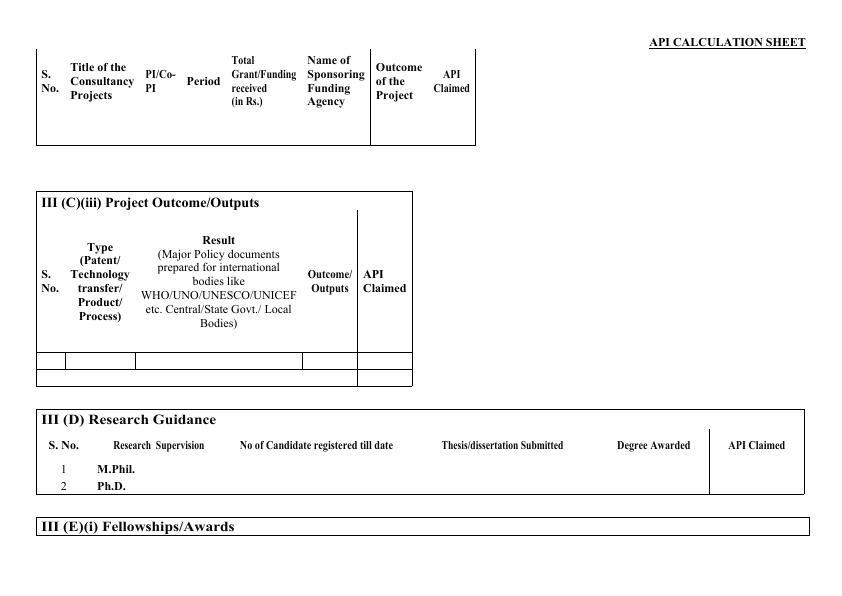table: (26, 183, 416, 391), (33, 404, 809, 499), (29, 42, 483, 152), (29, 508, 812, 540)
text: (647, 30, 814, 58)
